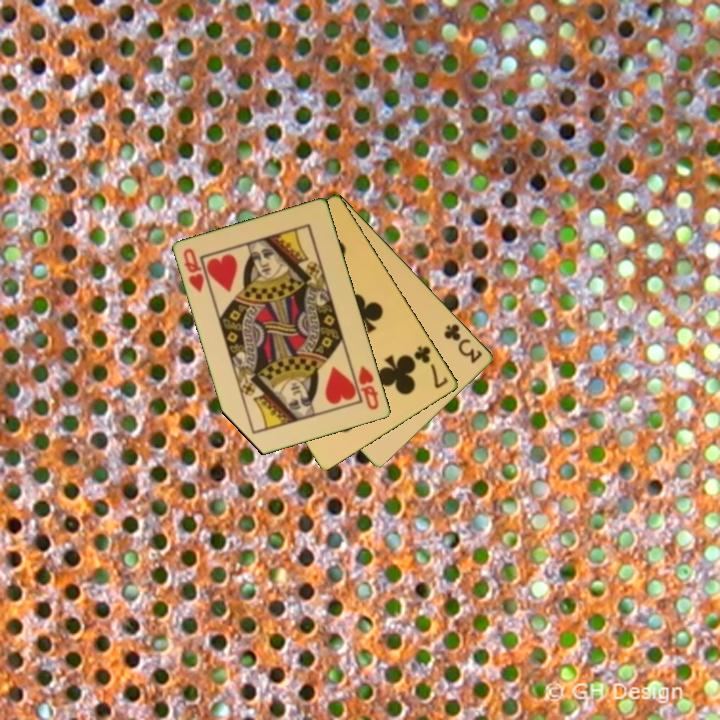3c: (441, 320, 486, 366)
7c: (411, 342, 451, 391)
Qh: (355, 362, 382, 413), (180, 245, 207, 295)
